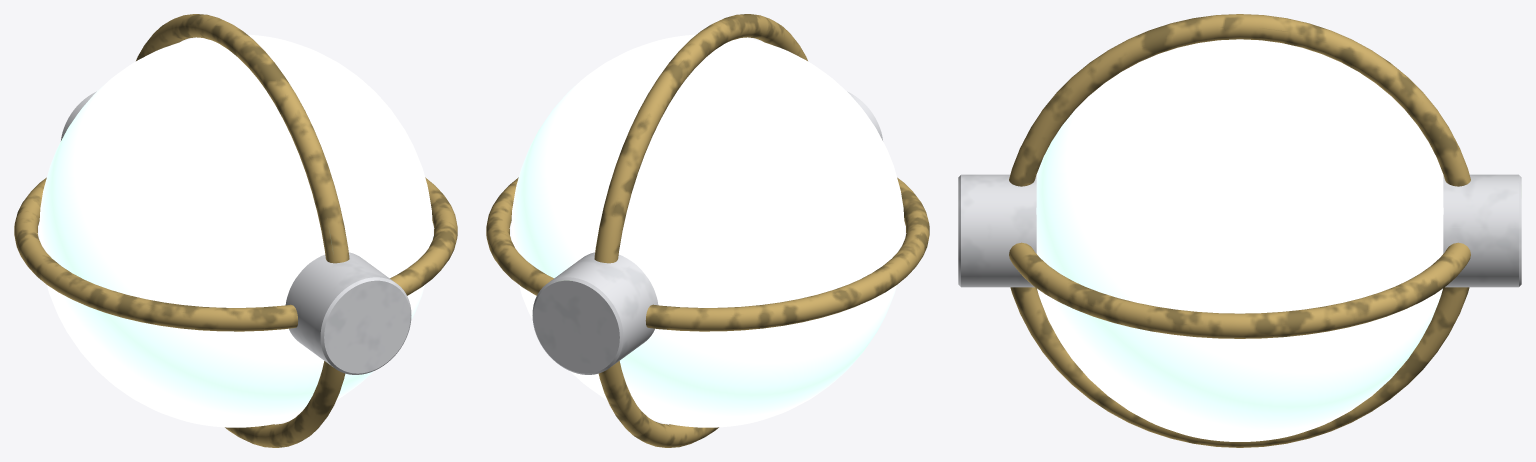
The model's file is colossus_knee.glb.
3 renders of one model, left to right at view 1: azimuth 30°, elevation 25°; view 2: azimuth 150°, elevation 25°; view 3: azimuth 270°, elevation 25°, orthographic. The views are drawn at different scales.
Visible parts, largest first — view 1: colossus_knee; view 2: colossus_knee; view 3: colossus_knee.
Part boxes in pixels (box(x1,y1,x2,y2)): colossus_knee: box(14, 14, 457, 447); colossus_knee: box(486, 14, 929, 447); colossus_knee: box(958, 14, 1521, 447).
Size of the model in its own units: 1.69 by 1.69 by 2.
3 materials, 2 textured.
